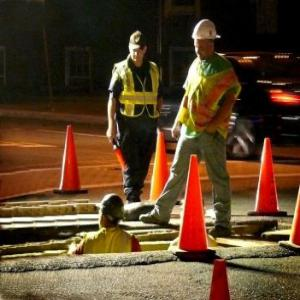blue: (97, 195, 126, 230)
none: (128, 32, 148, 59)
white: (193, 17, 219, 59)
